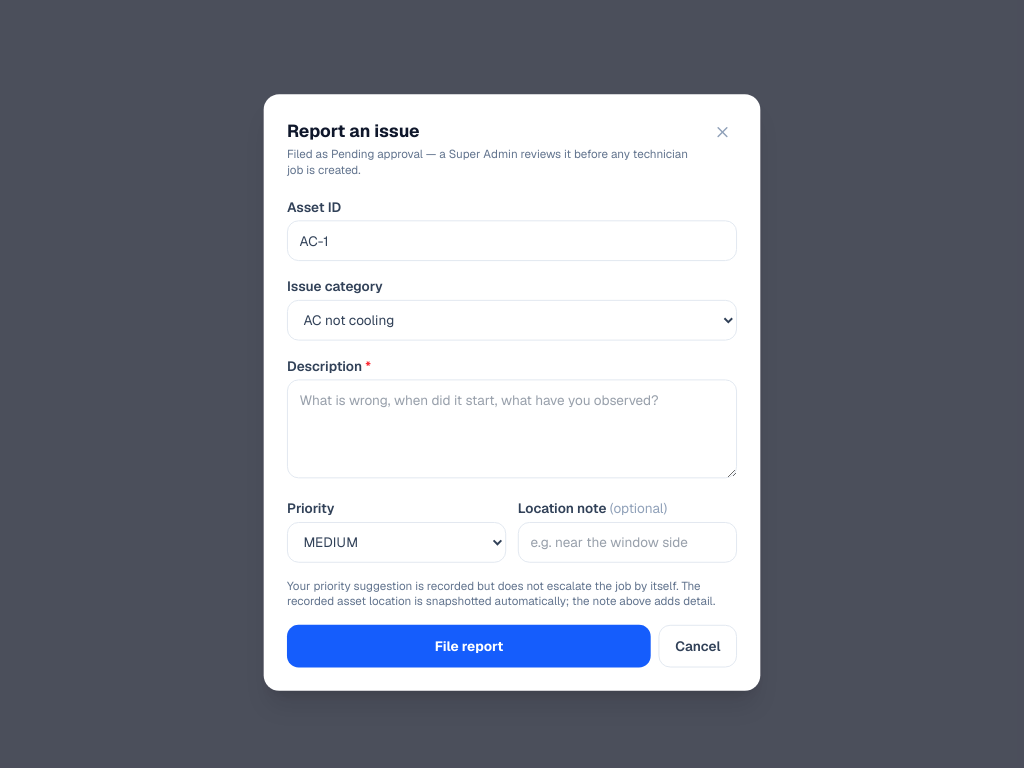
ReportIssueModal › preserves input and explains an unknown asset
Type "Water leaking." into the text box with placeholder "What is wrong, when did it start, what have you observed?" at (512, 428), box [287,379,737,478]
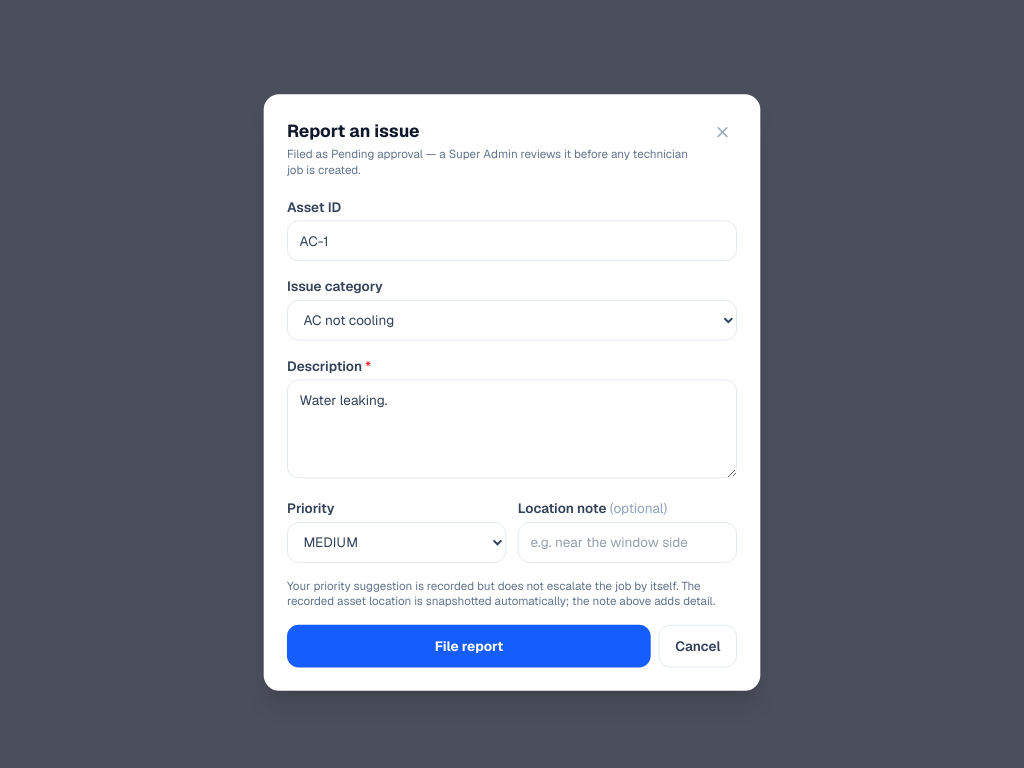
Click the button "File report" at (469, 646), box [287,624,651,667]
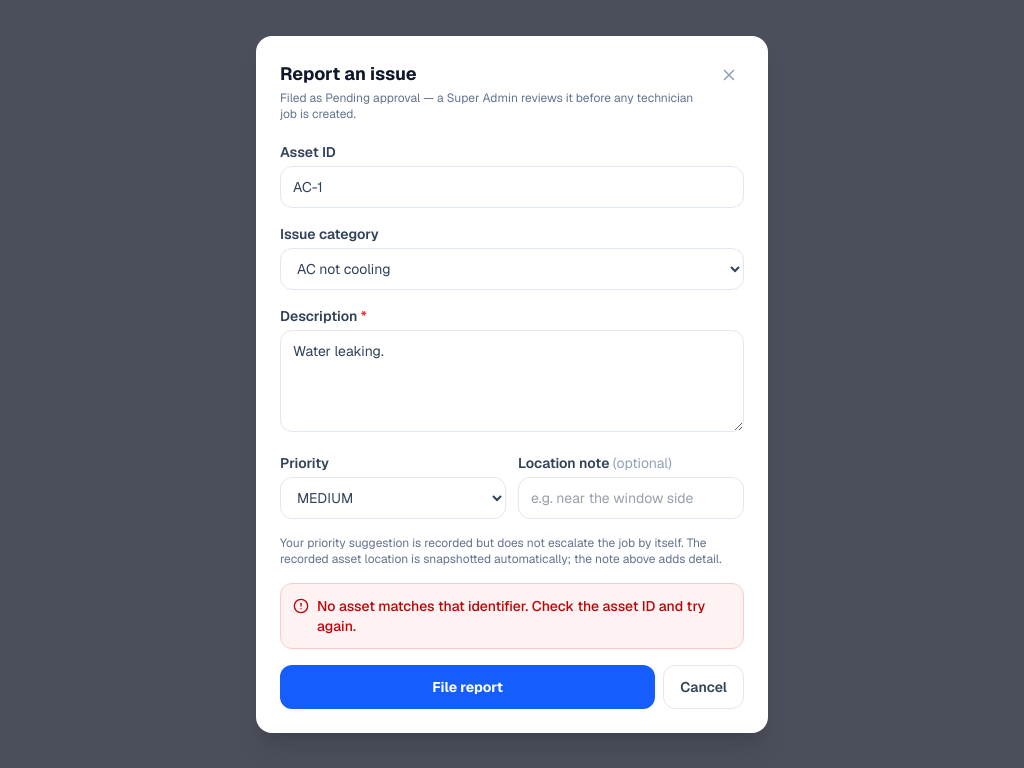
Expected: the text "No asset matches" is shown, [317,596,705,634]
